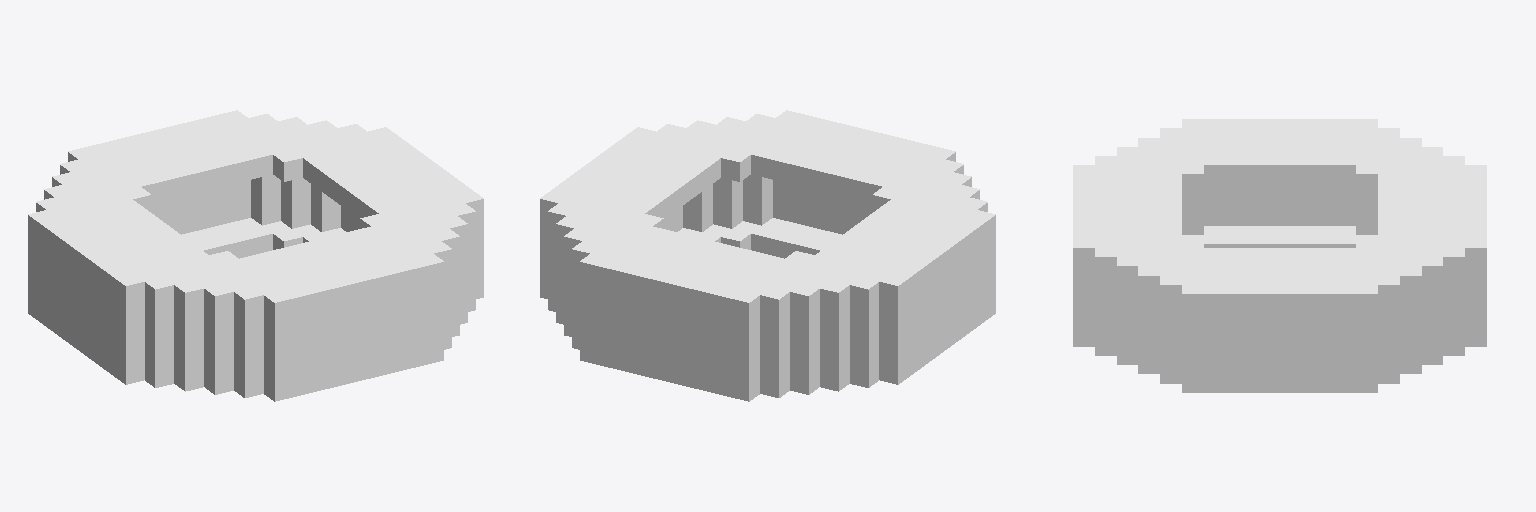
Rendered from Rubber.obj.
3 renders of one model, left to right at view 1: azimuth 30°, elevation 25°; view 2: azimuth 150°, elevation 25°; view 3: azimuth 270°, elevation 25°, orthographic.
Parts seen in each view (by area): view 1: object 1; view 2: object 1; view 3: object 1.
Boxes of the visible parts, box(x1,y1,x2,y2) form: object 1: box(28, 110, 483, 401); object 1: box(540, 110, 995, 401); object 1: box(1073, 119, 1486, 392).
Bounding box in the file's own units: 1.9 × 0.5 × 1.9.